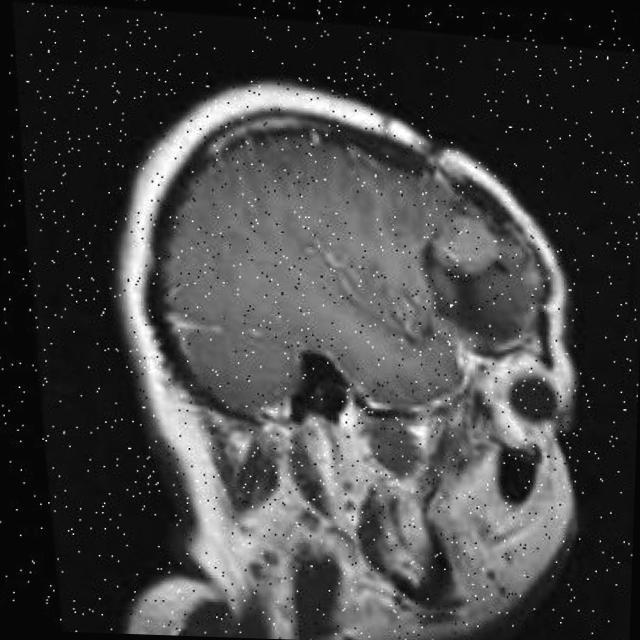LMCI: (418, 182, 485, 272)
